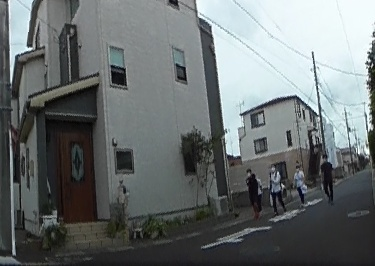person: (244, 166, 261, 214), (319, 151, 335, 202), (270, 162, 285, 212), (294, 163, 306, 202)
